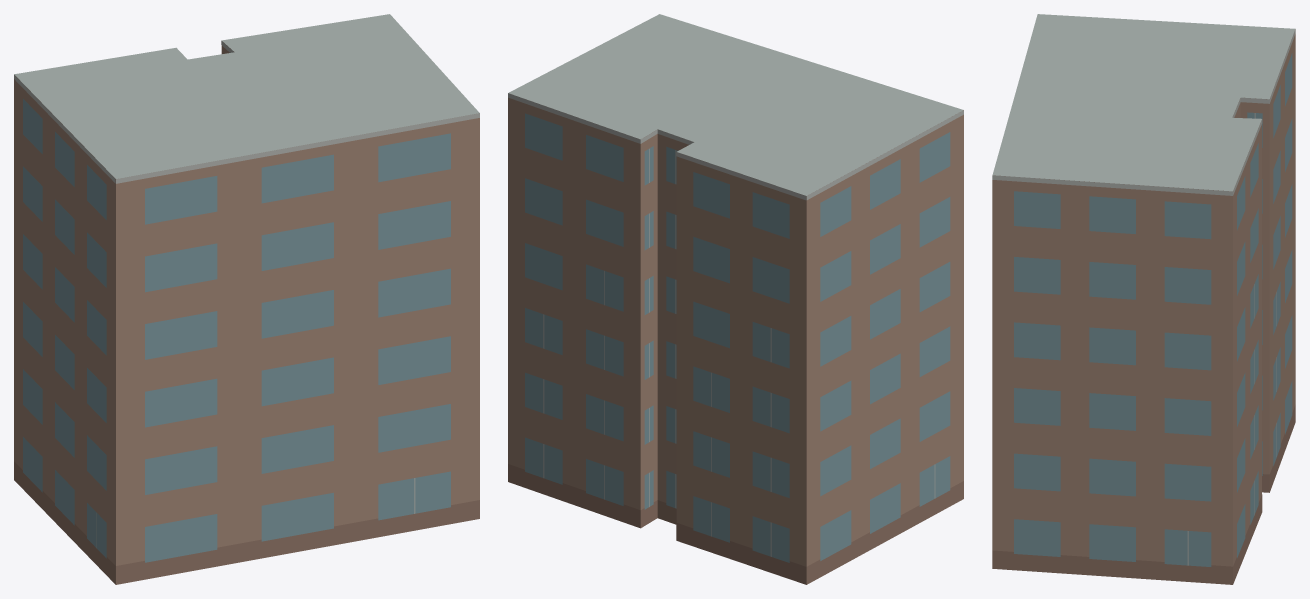
File: survey-upis-33004055.glb
3 views of the same model, side by side, from view 1: azimuth 30°, elevation 25°; view 2: azimuth 150°, elevation 25°; view 3: azimuth 270°, elevation 25° (orthographic). The views are drawn at different scales.
Visible parts, largest first — view 1: survey-upis-33004055.tmp; view 2: survey-upis-33004055.tmp; view 3: survey-upis-33004055.tmp.
Part boxes in pixels (<box>): survey-upis-33004055.tmp: <box>14,14,479,584</box>; survey-upis-33004055.tmp: <box>508,14,963,584</box>; survey-upis-33004055.tmp: <box>992,14,1295,584</box>.
Size of the model in its own units: 20.22 by 20.9 by 14.6.
